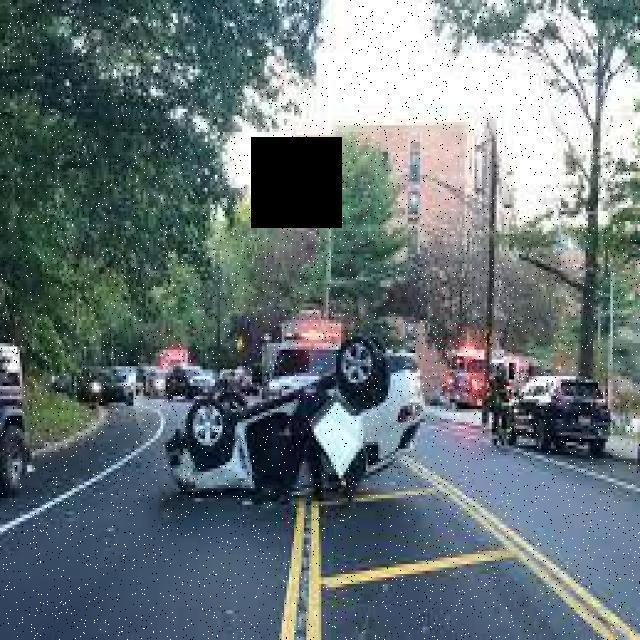accident: (158, 335, 433, 510)
